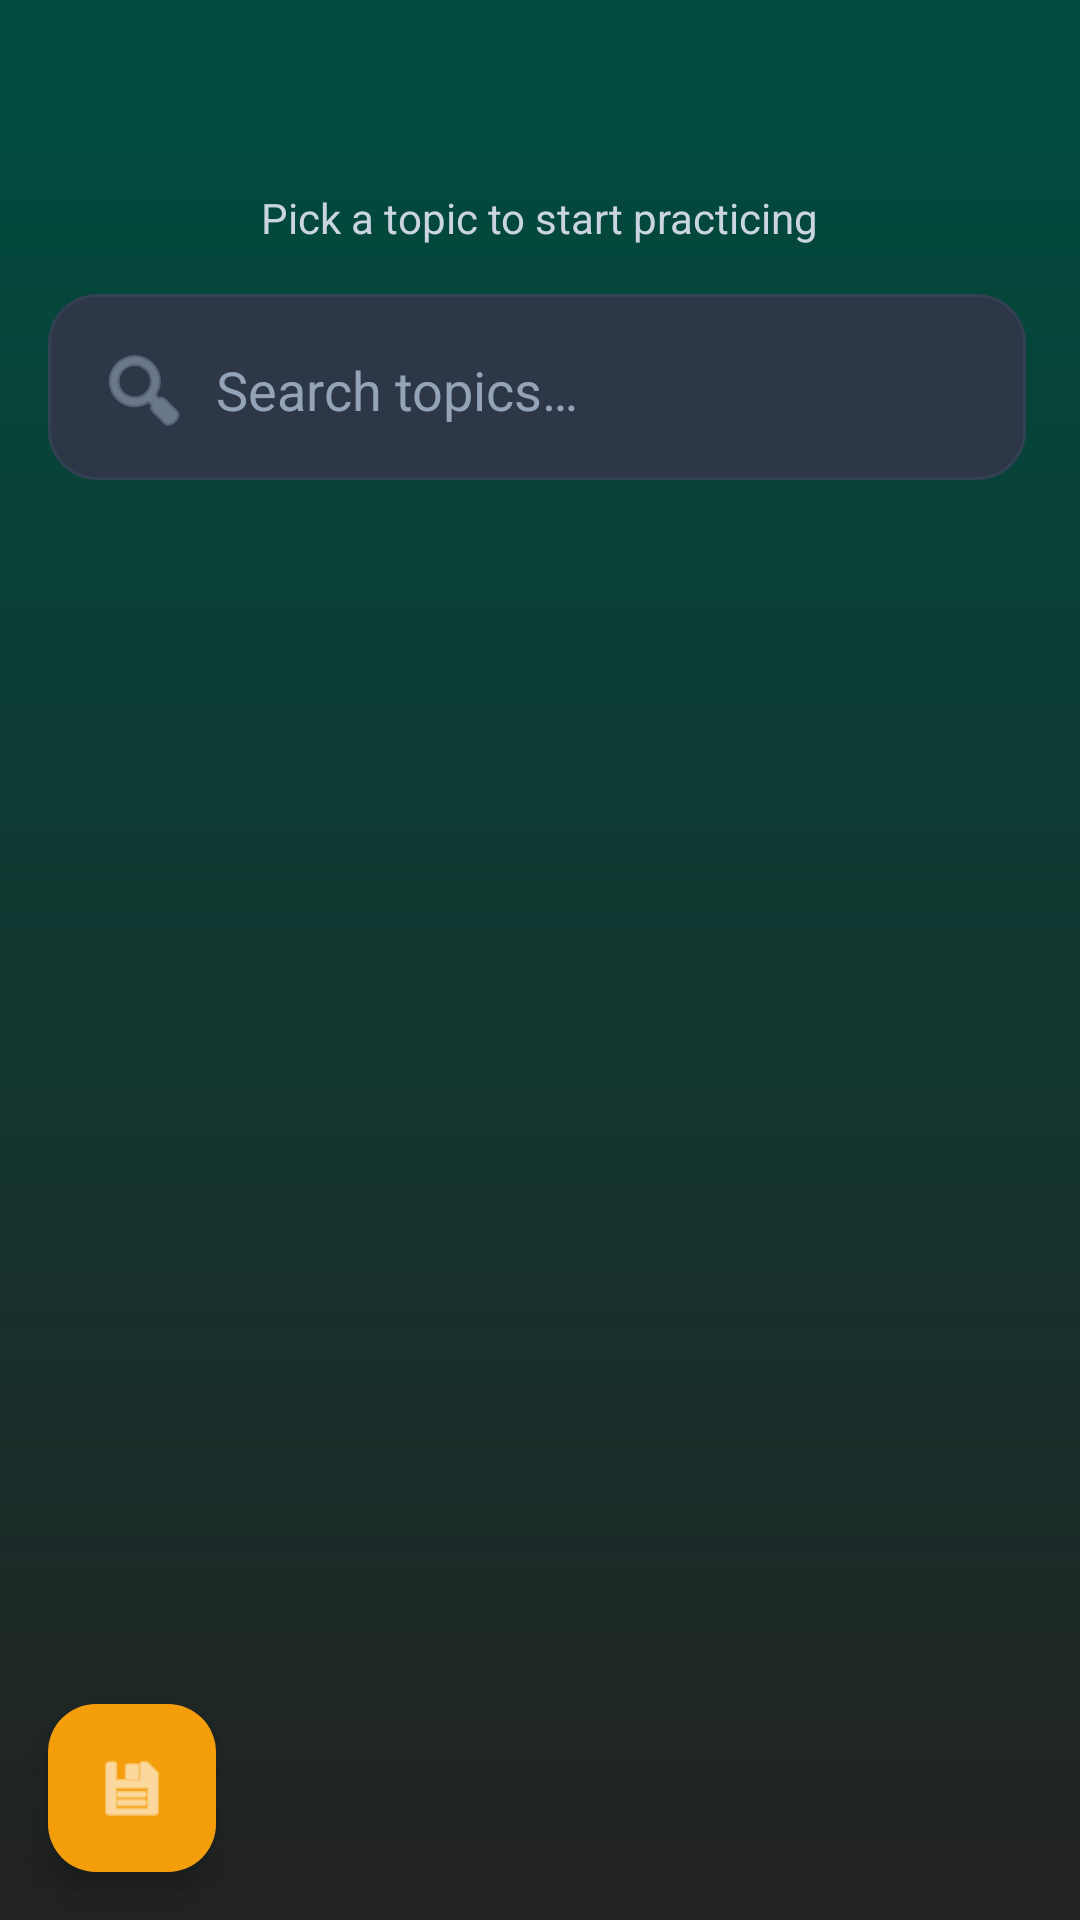

Icons on this 1080*1920 Android screen, each with the point to tap as point (x, y):
save: point (132, 1788)
